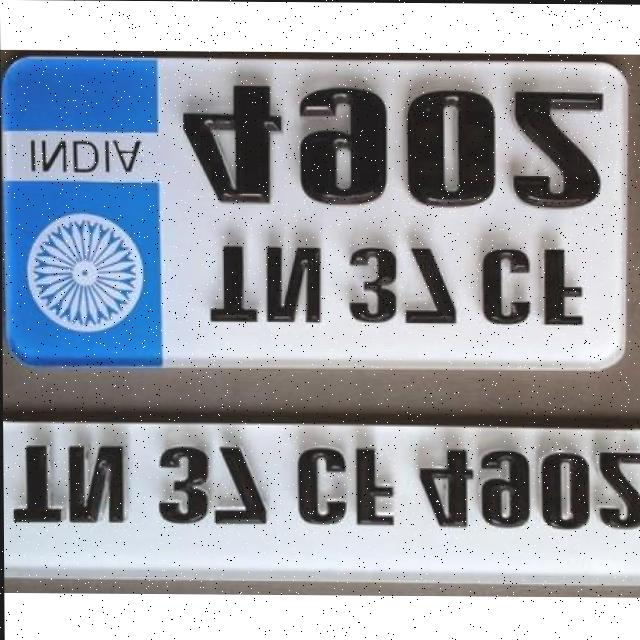plate: (0, 53, 640, 381), (2, 411, 640, 591)
